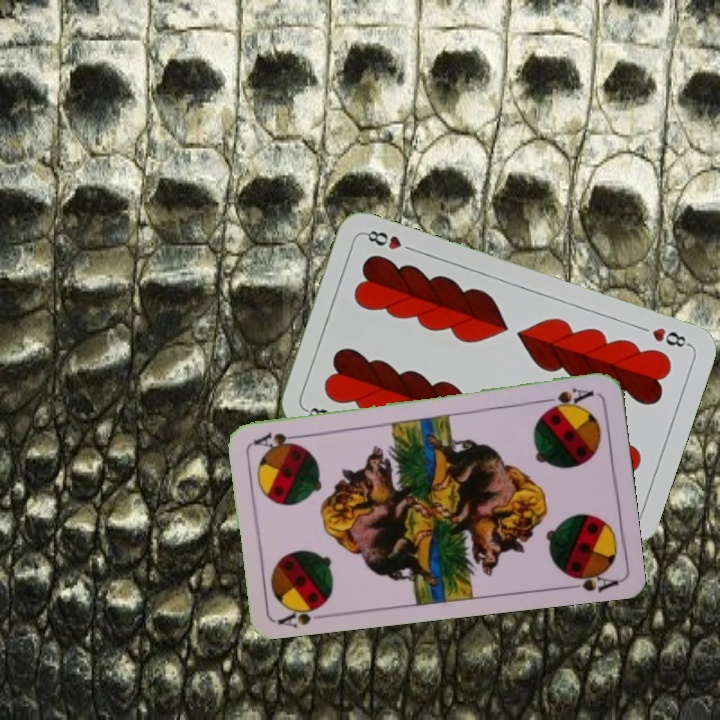H8: (648, 323, 693, 350)
SA: (273, 597, 332, 629), (539, 384, 597, 413)
